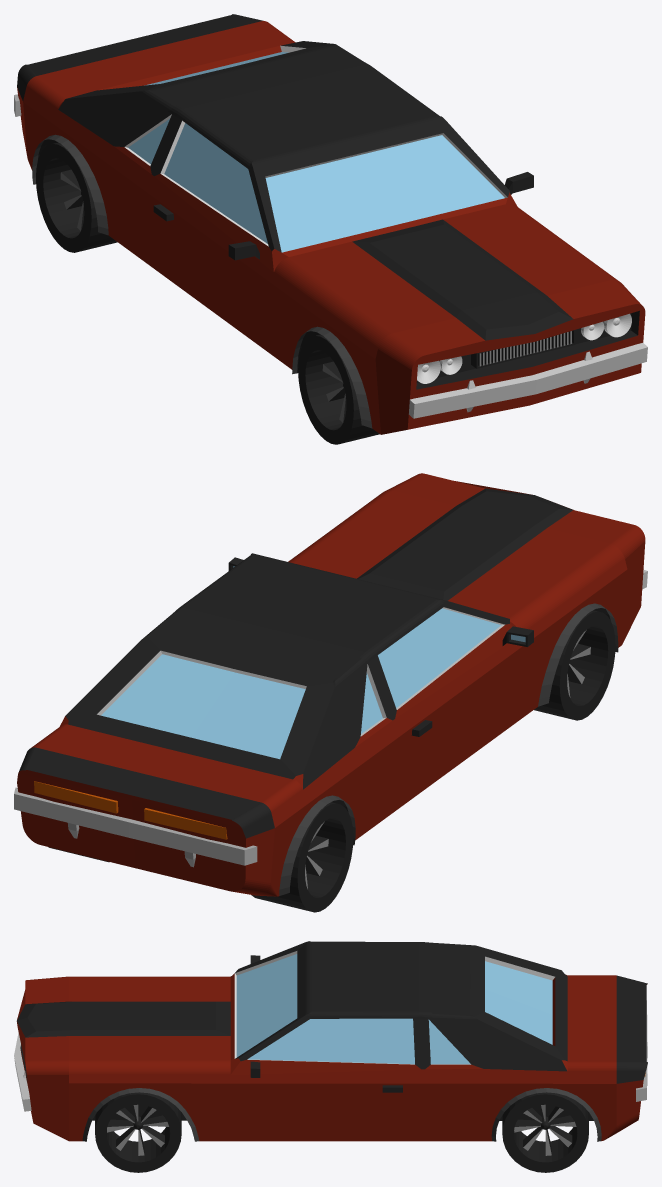
The model's file is dodge_challenger.fbx.
The picture shows the model from 3 angles, top to bottom: view 1: azimuth 30°, elevation 25°; view 2: azimuth 150°, elevation 25°; view 3: azimuth 270°, elevation 25°; orthographic projection. The views are drawn at different scales.
Visible parts, largest first — view 1: Dodge Challenger, Dodge Wheel FR, Dodge Wheel RR; view 2: Dodge Challenger, Dodge Wheel RR, Dodge Wheel FR; view 3: Dodge Challenger, Dodge Wheel FL, Dodge Wheel RL.
Boxes of the visible parts, <box> form: Dodge Challenger: <box>14,14,647,434</box>; Dodge Wheel FR: <box>298,334,379,444</box>; Dodge Wheel RR: <box>36,142,117,252</box>; Dodge Challenger: <box>14,473,647,896</box>; Dodge Wheel RR: <box>251,802,353,912</box>; Dodge Wheel FR: <box>534,610,615,720</box>; Dodge Challenger: <box>14,941,647,1141</box>; Dodge Wheel FL: <box>95,1092,181,1172</box>; Dodge Wheel RL: <box>502,1092,588,1172</box>.
Size of the model in its own units: 4.78 by 2.89 by 11.3.
